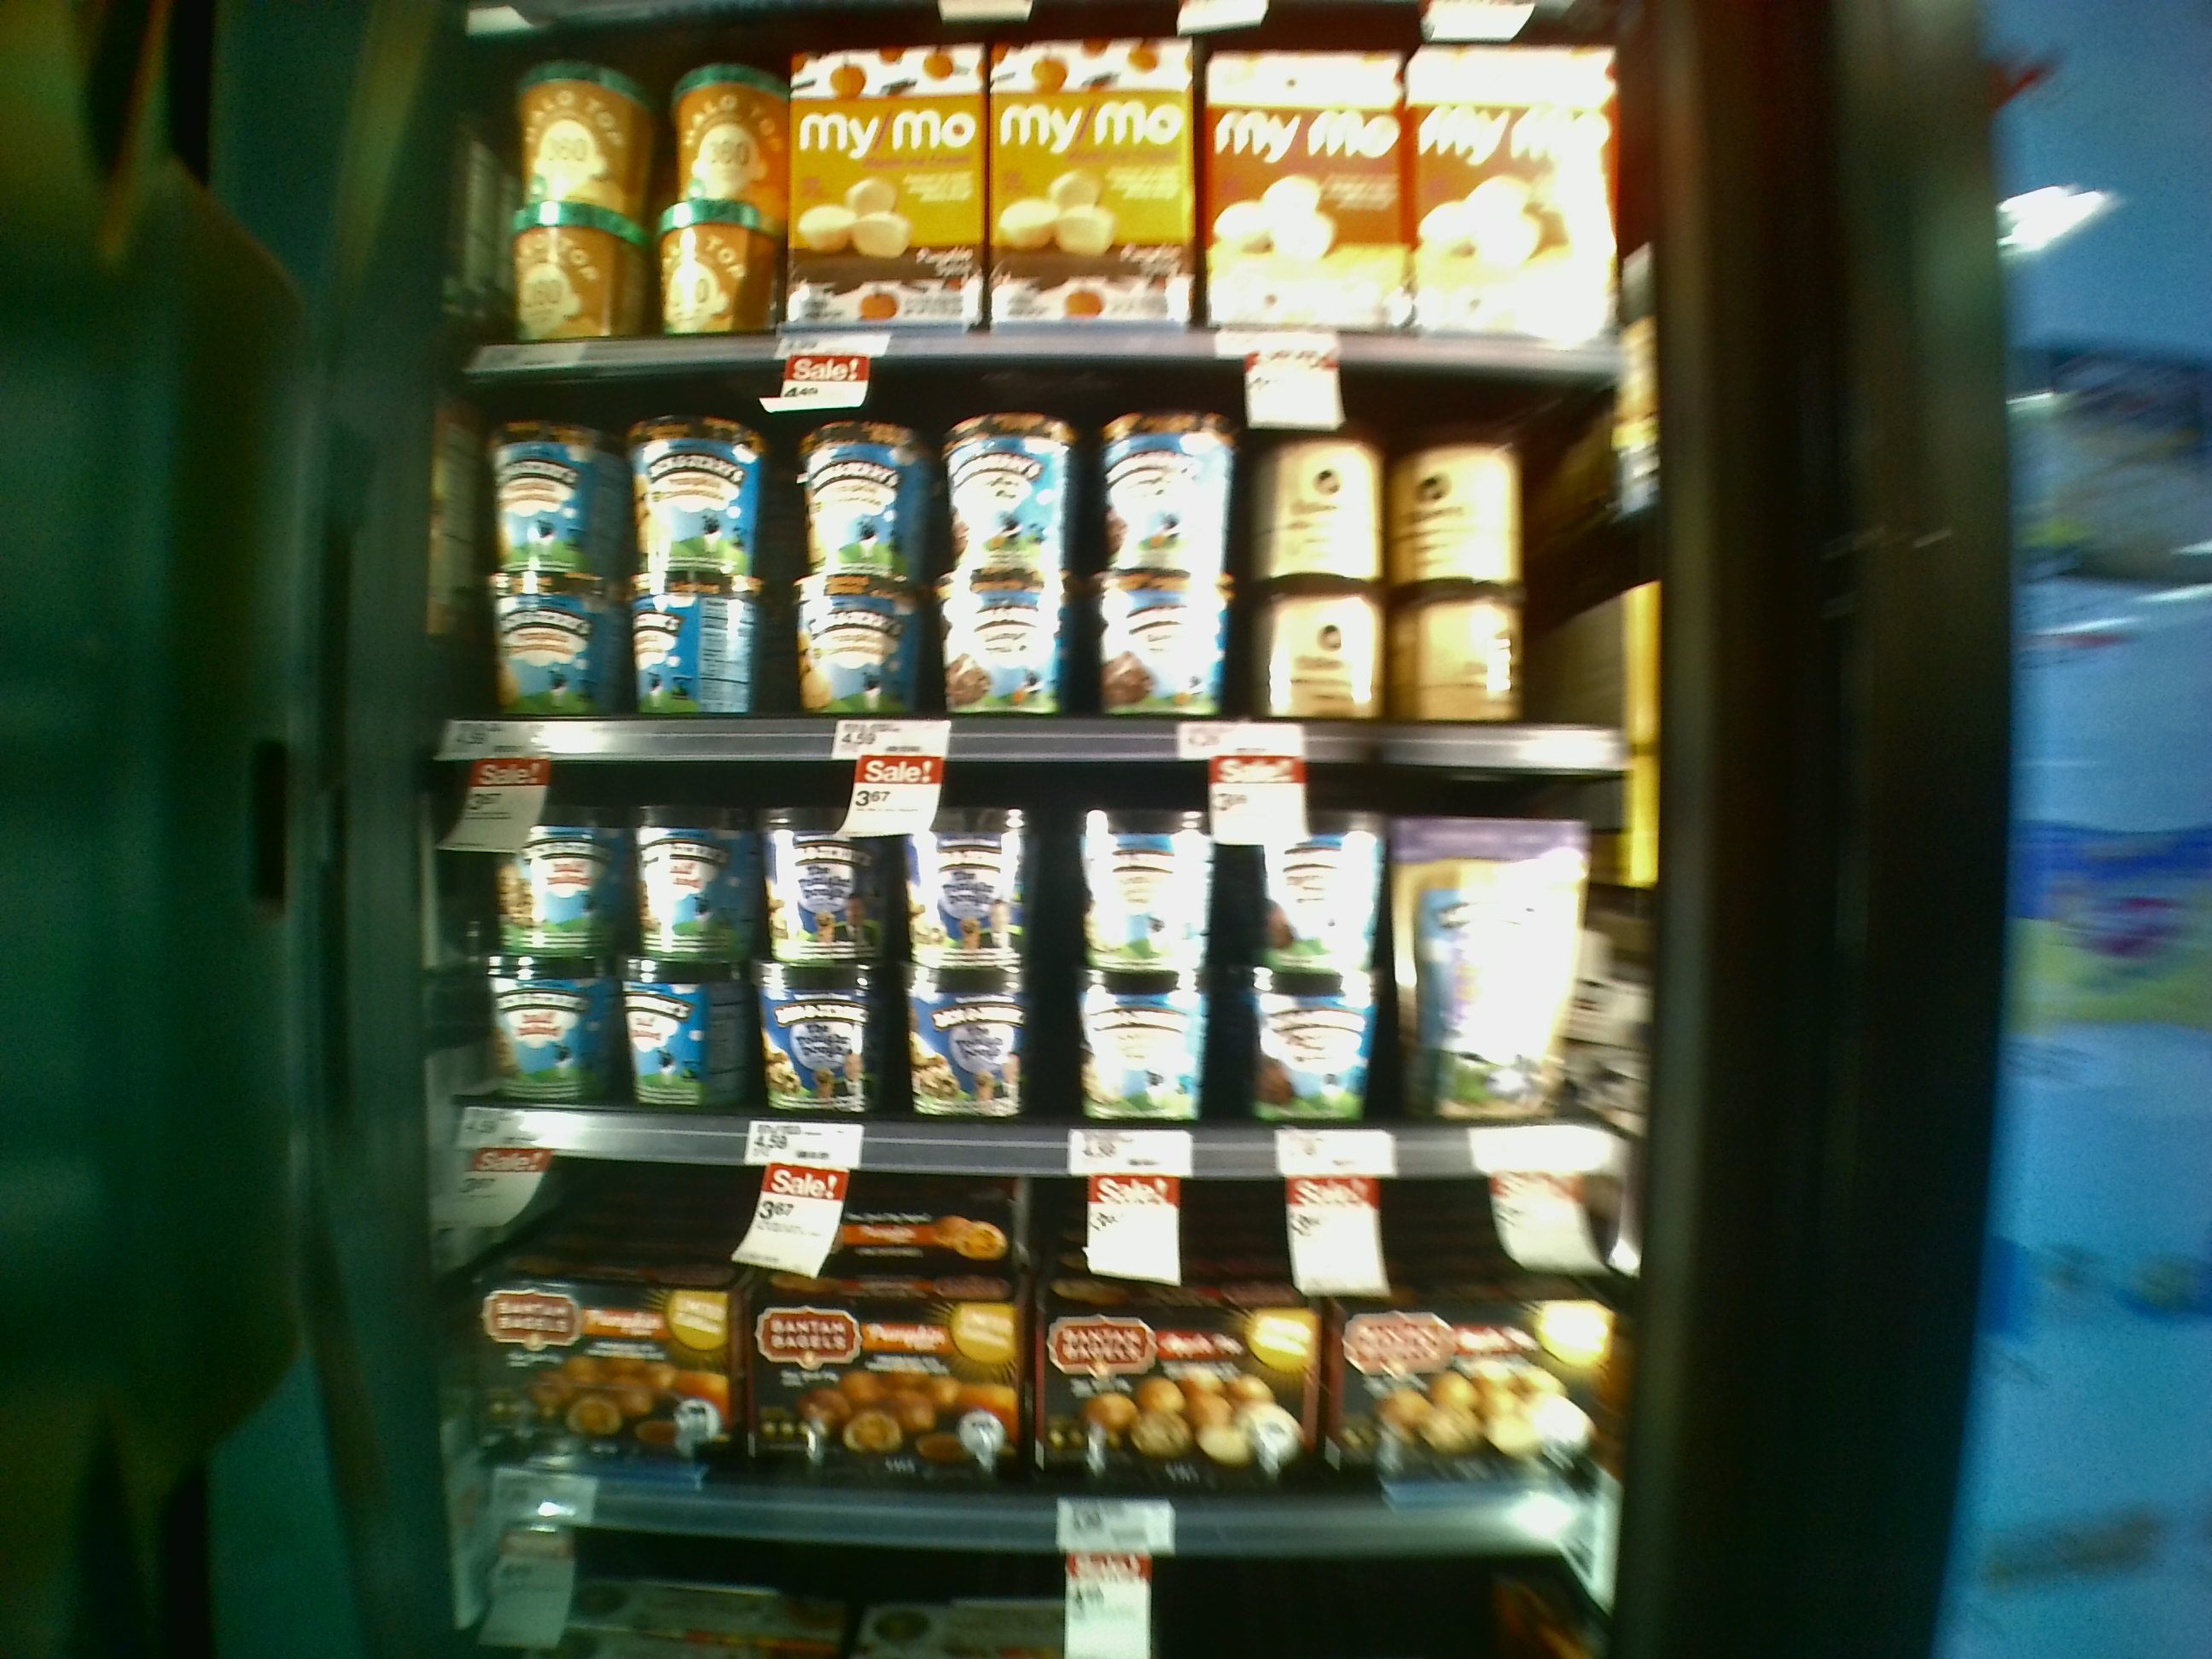shelf: (449, 741, 1630, 1161), (446, 1127, 1597, 1549), (462, 362, 1634, 746)
